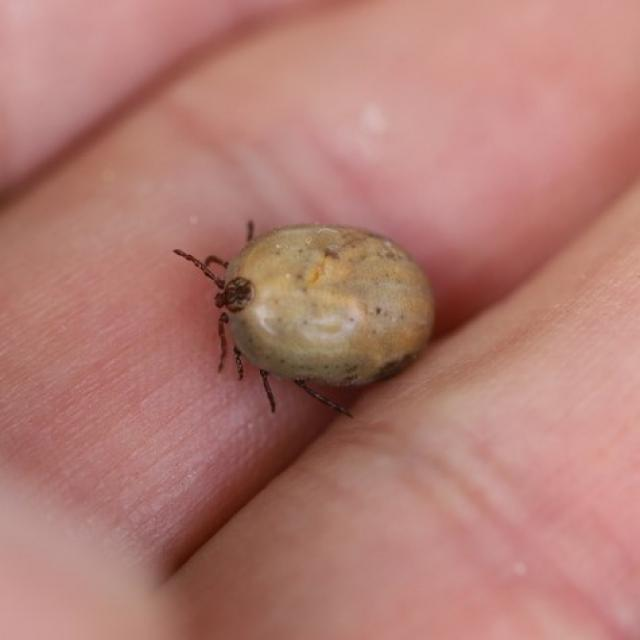Dermacentor Reticulatus-F-Fed: (172, 218, 435, 417)
